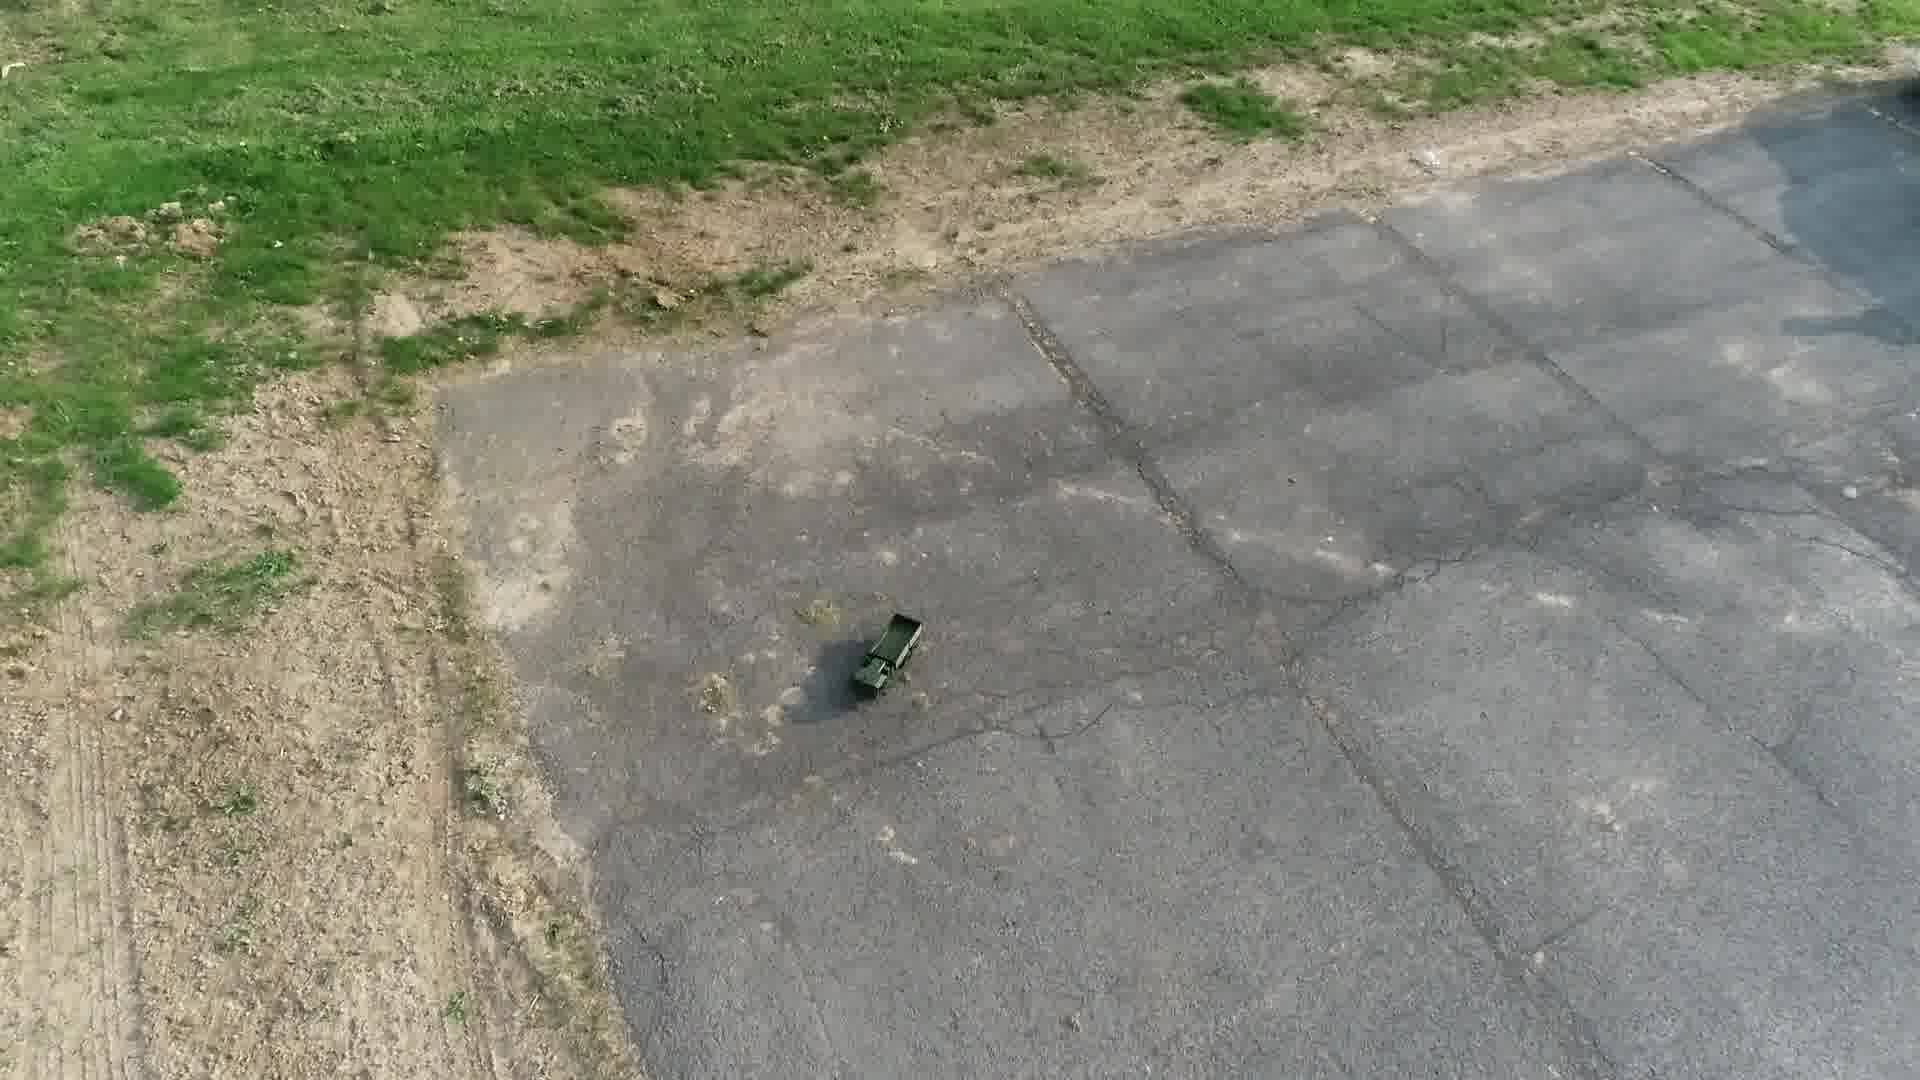transporter9: (843, 605, 927, 702)
